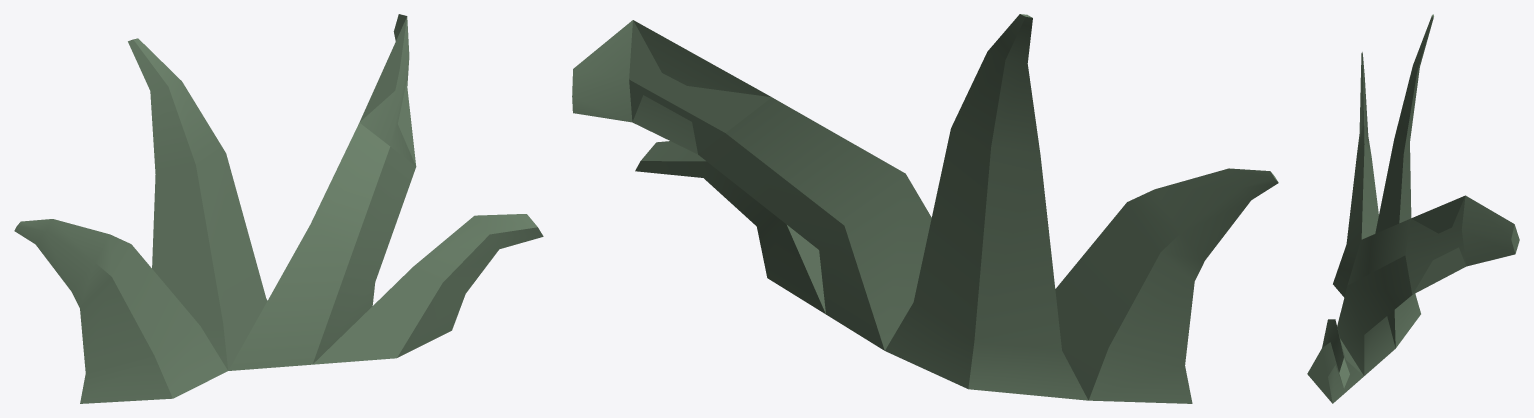
File: grassblades 1.fbx
The picture shows the model from 3 angles, left to right: view 1: azimuth 30°, elevation 25°; view 2: azimuth 150°, elevation 25°; view 3: azimuth 270°, elevation 25°; orthographic projection. The views are drawn at different scales.
Parts seen in each view (by area): view 1: grassblades_var3, grassblades_var2, grassblade_var1, grassblades_var4; view 2: grassblades_var3, grassblades_var2, grassblade_var1, grassblades_var4; view 3: grassblades_var3, grassblades_var2, grassblade_var1, grassblades_var4.
Boxes of the visible parts, left/top/right/bottom form: grassblades_var3: left=228, top=14, right=416, bottom=370; grassblades_var2: left=128, top=38, right=267, bottom=370; grassblade_var1: left=14, top=219, right=227, bottom=403; grassblades_var4: left=313, top=214, right=543, bottom=364; grassblades_var3: left=572, top=20, right=931, bottom=350; grassblades_var2: left=885, top=14, right=1088, bottom=400; grassblade_var1: left=1055, top=168, right=1278, bottom=403; grassblades_var4: left=635, top=141, right=825, bottom=314; grassblades_var3: left=1337, top=195, right=1519, bottom=375; grassblades_var2: left=1375, top=14, right=1433, bottom=348; grassblade_var1: left=1333, top=52, right=1378, bottom=297; grassblades_var4: left=1307, top=319, right=1363, bottom=403.
Size of the model in its own units: 811 by 468 by 327.
